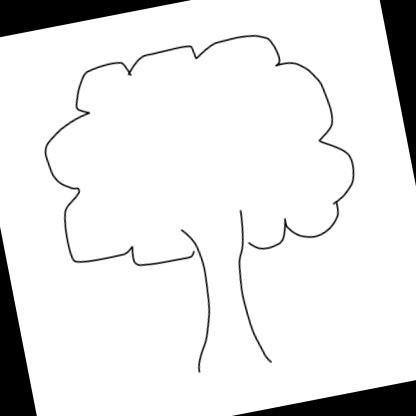crown_cloud: (29, 17, 364, 284)
trunk_straight: (182, 227, 264, 347)
